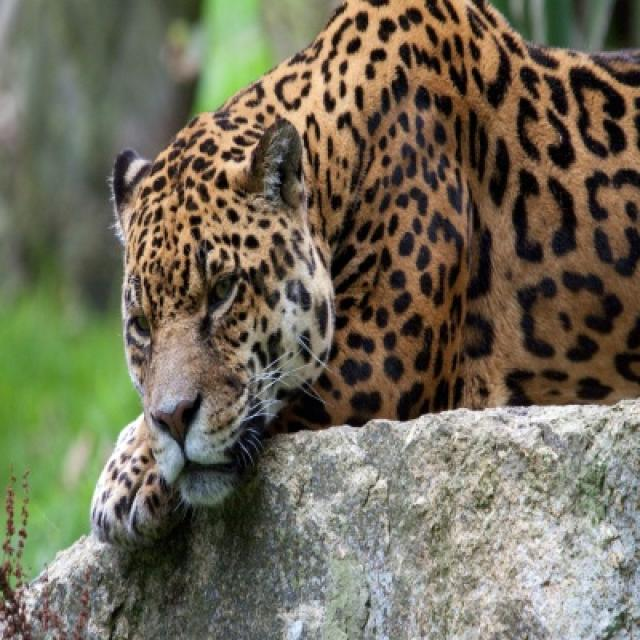Jaguar: (90, 0, 638, 552)
